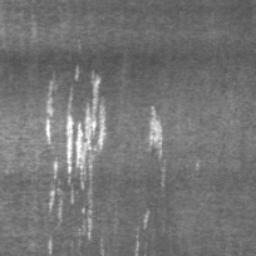White rust: (47, 69, 107, 255), (147, 104, 167, 190), (45, 70, 59, 145), (134, 209, 151, 256), (74, 63, 81, 81), (53, 156, 58, 180), (194, 157, 200, 176), (100, 236, 105, 256)
